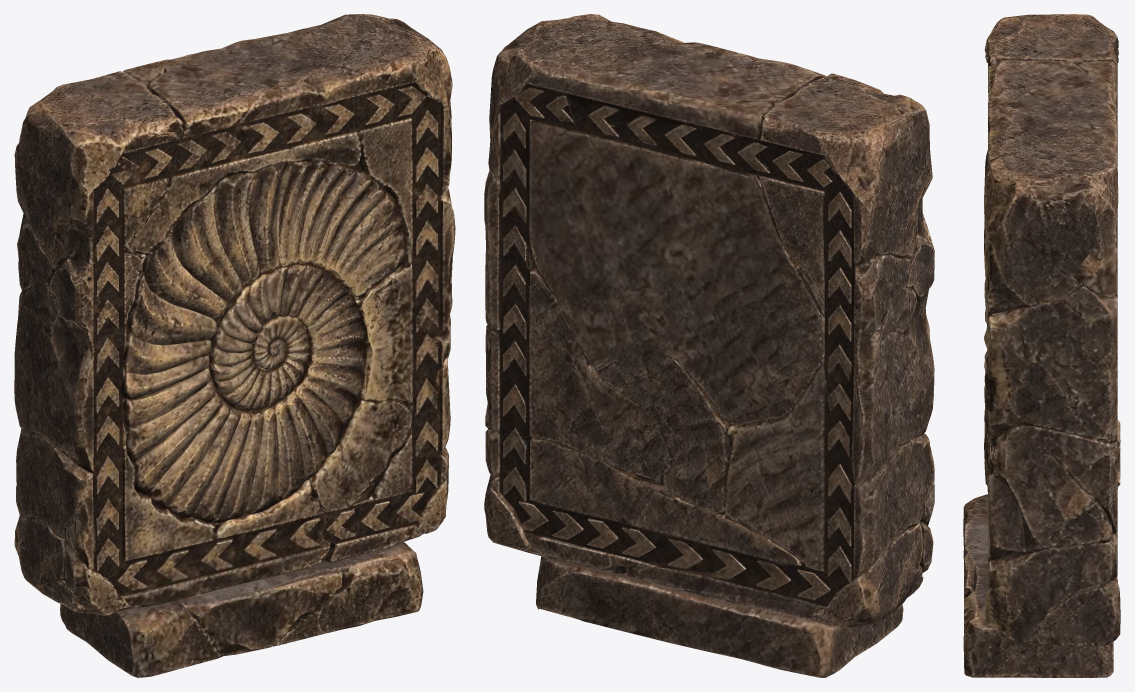
Rendered from fossil-slab.glb.
3 renders of one model, left to right at view 1: azimuth 30°, elevation 25°; view 2: azimuth 150°, elevation 25°; view 3: azimuth 270°, elevation 25°, orthographic. The views are drawn at different scales.
Parts seen in each view (by area): view 1: Mesh_0; view 2: Mesh_0; view 3: Mesh_0.
Part boxes in pixels (x1,y1,x2,y2): Mesh_0: (14, 14, 455, 677); Mesh_0: (484, 14, 934, 677); Mesh_0: (963, 14, 1120, 677).
Bounding box in the file's own units: 1.41 × 1.9 × 0.5278.
1 material, 1 textured.
